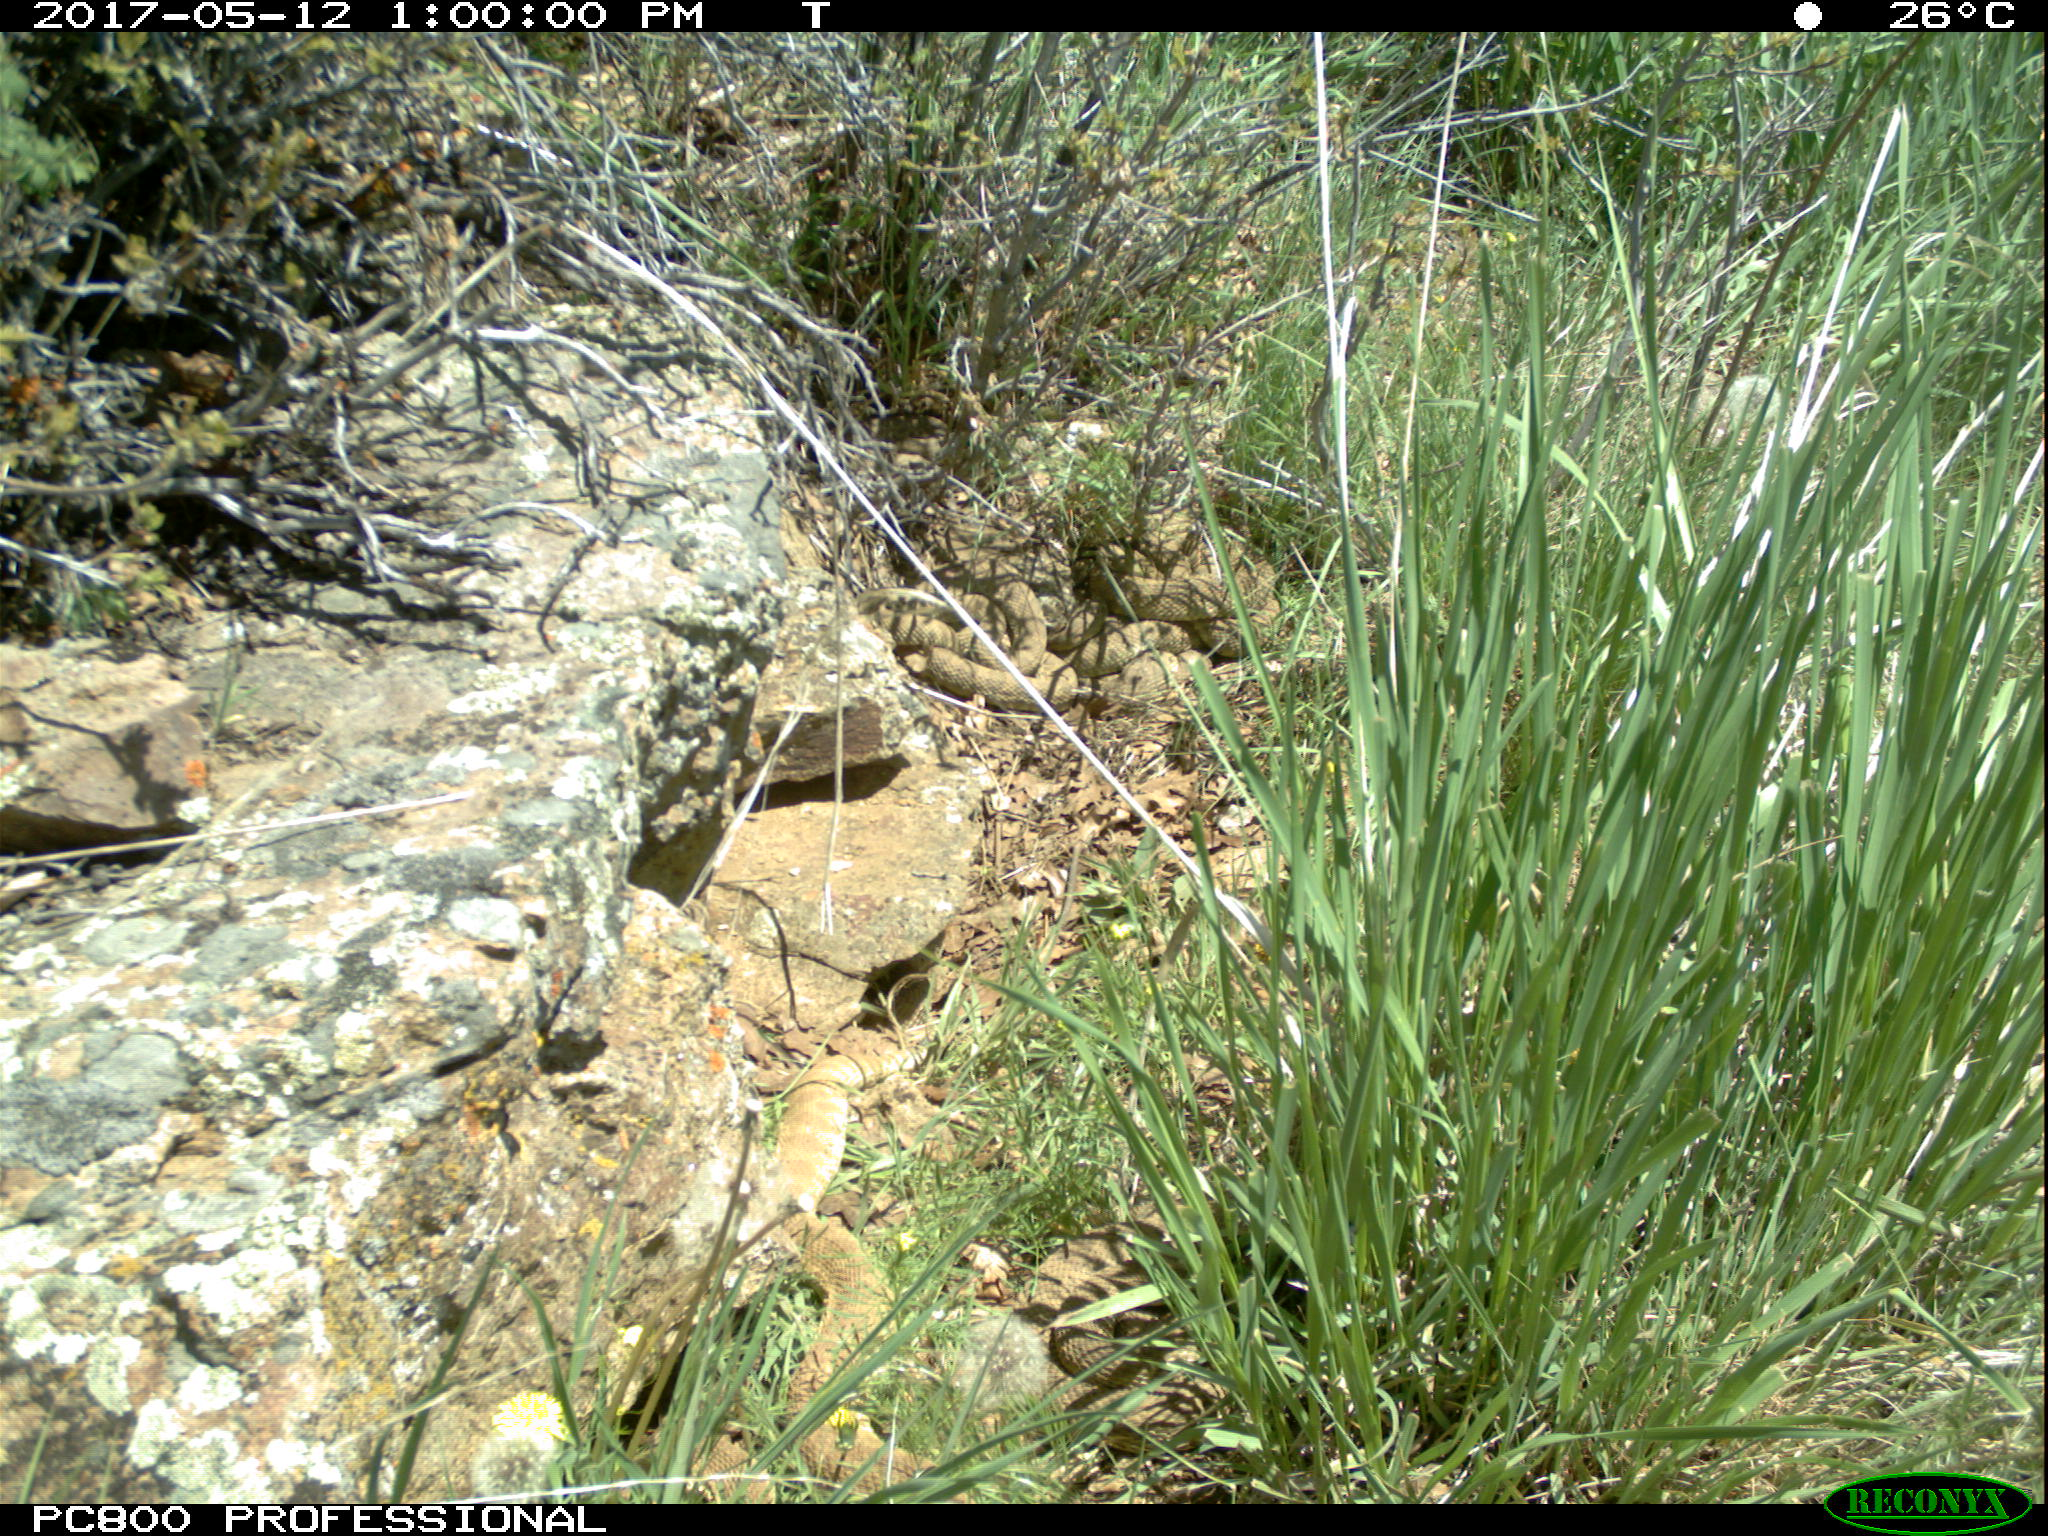snake: (768, 1037, 918, 1489), (860, 573, 1080, 713), (1100, 513, 1280, 641), (1077, 618, 1230, 702), (685, 1434, 776, 1505)
